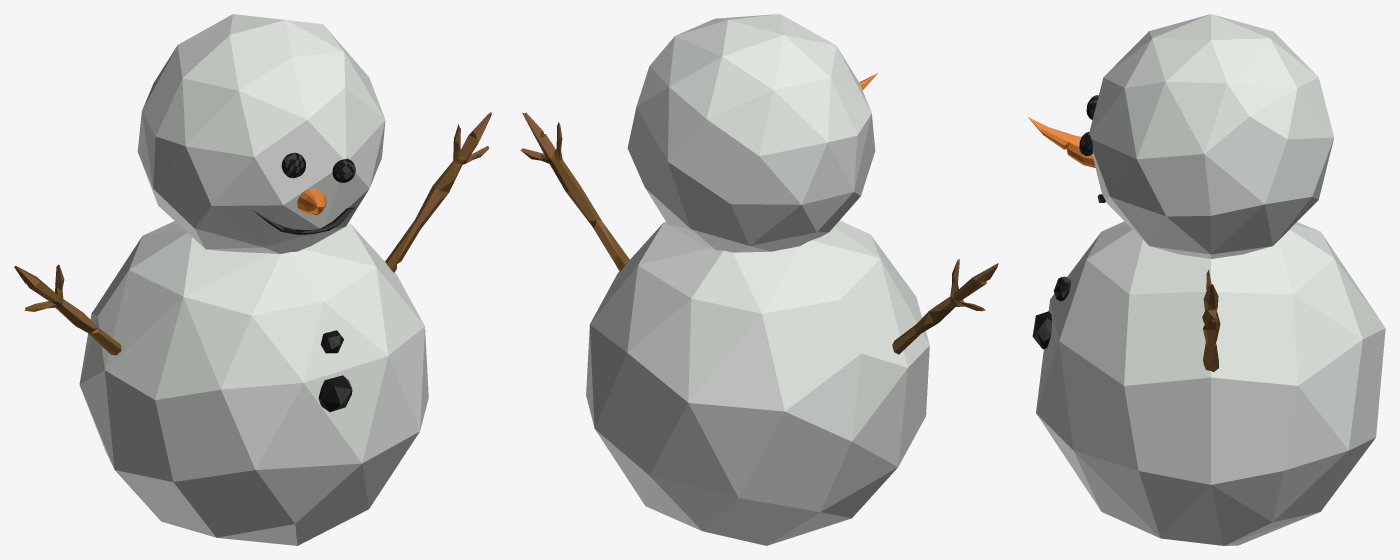
File: RW_LP_CP_Character_SnowMan.001.gltf
The picture shows the model from 3 angles, left to right: view 1: azimuth 30°, elevation 25°; view 2: azimuth 150°, elevation 25°; view 3: azimuth 270°, elevation 25°; orthographic projection.
Visible parts, largest first — view 1: RW_LP_CP_Character_SnowMan.001; view 2: RW_LP_CP_Character_SnowMan.001; view 3: RW_LP_CP_Character_SnowMan.001.
Boxes of the visible parts, x1,y1,x2,y2 form: RW_LP_CP_Character_SnowMan.001: [14, 14, 491, 545]; RW_LP_CP_Character_SnowMan.001: [520, 14, 998, 545]; RW_LP_CP_Character_SnowMan.001: [1028, 14, 1385, 545].
Bounding box in the file's own units: 1.2 × 1.21 × 0.7744.
Materials: 1 (1 with a texture image).
